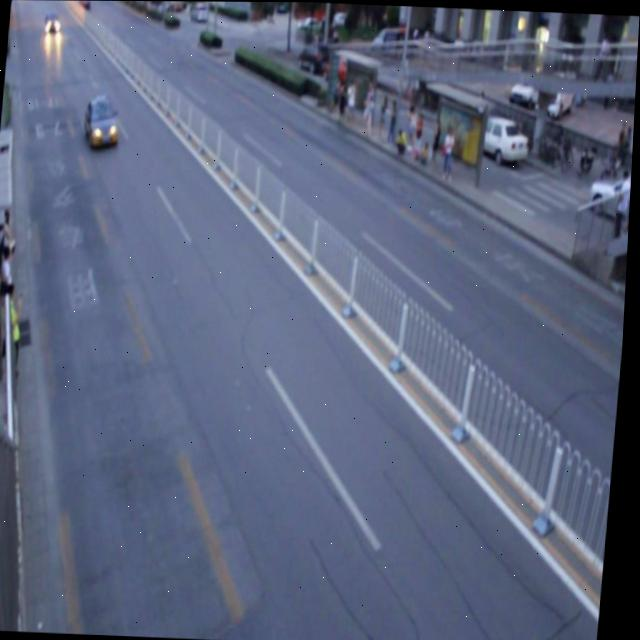car: (83, 93, 124, 152)
